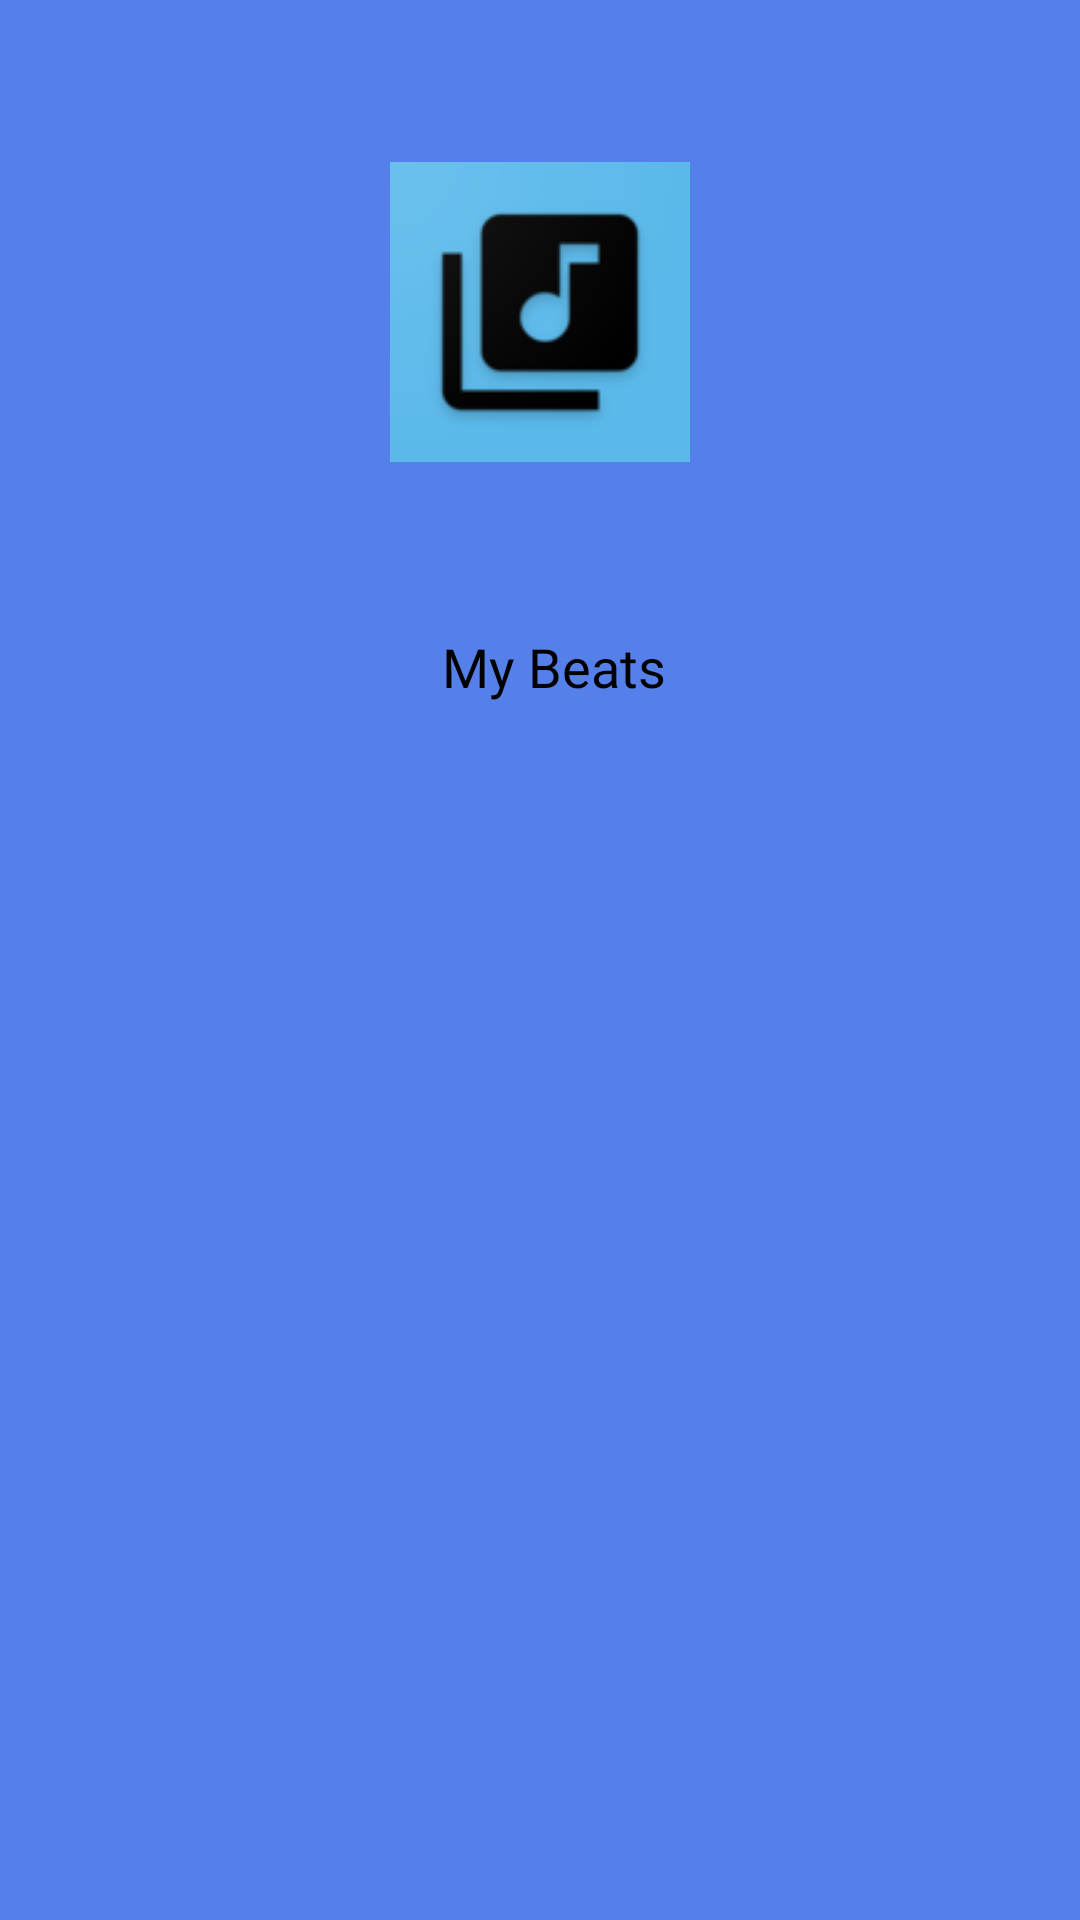

Icon bounding boxes for this 1080 x 1920 phone screenshot, format (x1, y1, x2, y2):
beats: (390, 162, 690, 462)
